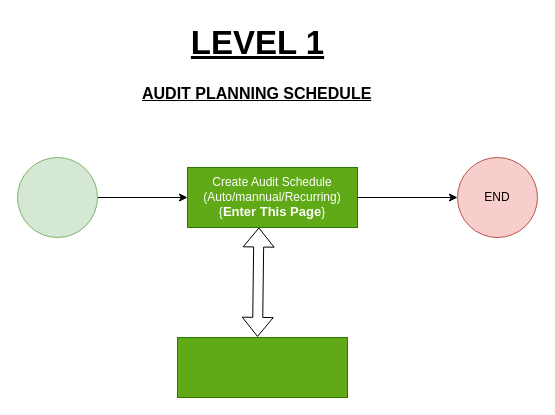
This 555x415 diagram has some shape labels left out. The shapes that lost their labels are listed below. From the top down, each one's centre as x and y in pixels, then its label:
(57,197): START
(262,367): Gannt Chart (Auto/mannual/Recurring) ( Enter This Page )
